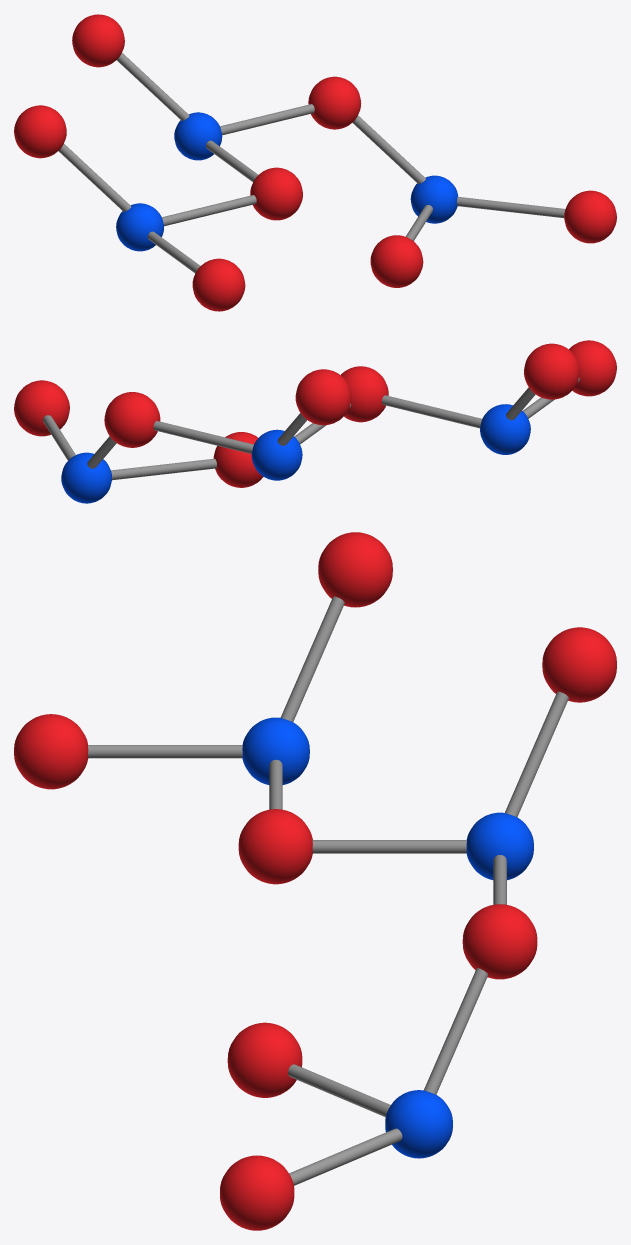
3 renders of one model, top to bottom at view 1: azimuth 30°, elevation 25°; view 2: azimuth 150°, elevation 25°; view 3: azimuth 270°, elevation 25°, orthographic. The views are drawn at different scales.
Parts seen in each view (by area): view 1: Сферы_Node (×10), Цилиндр_Node (×8); view 2: Сферы_Node (×10), Цилиндр_Node (×9); view 3: Сферы_Node (×10), Цилиндр_Node (×7).
Part boxes in pixels (left/top/right/bottom): Сферы_Node (×10): left=14, top=14, right=616, bottom=311; Цилиндр_Node (×8): left=58, top=53, right=565, bottom=273; Сферы_Node (×10): left=14, top=340, right=616, bottom=503; Цилиндр_Node (×9): left=43, top=377, right=579, bottom=480; Сферы_Node (×10): left=14, top=532, right=616, bottom=1230; Цилиндр_Node (×7): left=88, top=596, right=568, bottom=1185.
Bounding box in the file's own units: 8.09 × 3.22 × 5.28.
4 materials, 2 textured.
